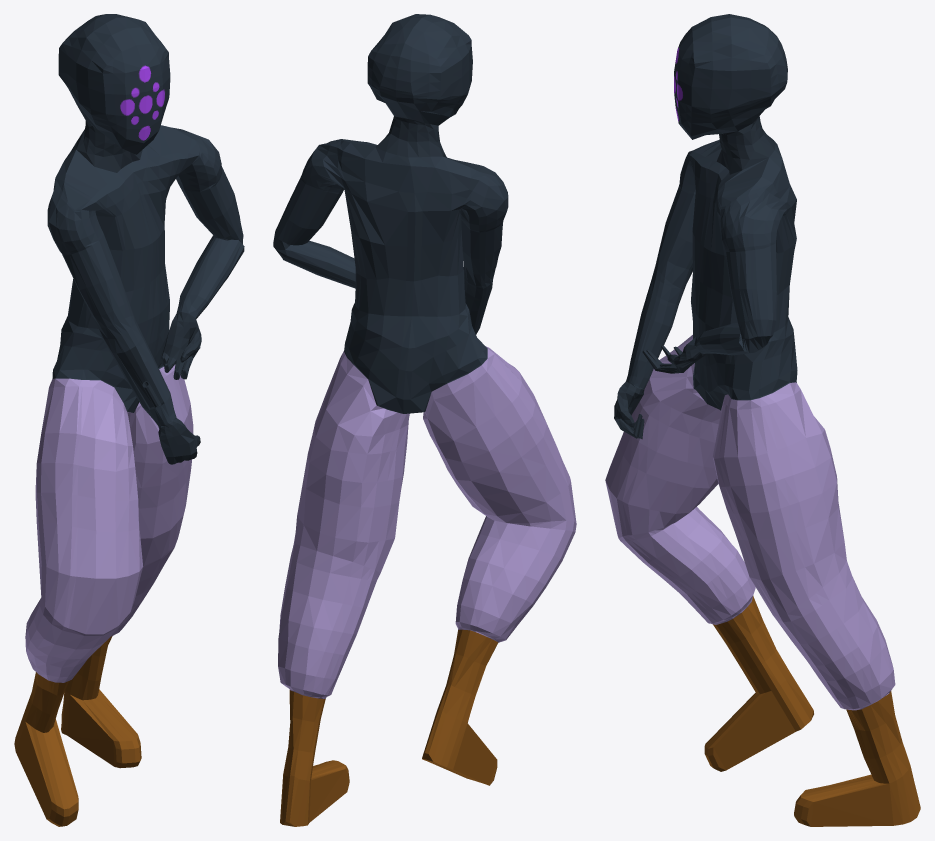
File: Oracle_Run_000008.obj
3 views of the same model, side by side, from view 1: azimuth 30°, elevation 25°; view 2: azimuth 150°, elevation 25°; view 3: azimuth 270°, elevation 25° (orthographic). The views are drawn at different scales.
Visible parts, largest first — view 1: Cube; view 2: Cube; view 3: Cube.
Part boxes in pixels (left/top/right/bottom): Cube: left=14, top=14, right=244, bottom=826; Cube: left=273, top=14, right=576, bottom=826; Cube: left=605, top=14, right=920, bottom=826.
Bounding box in the file's own units: 1.29 × 3.84 × 1.41.
